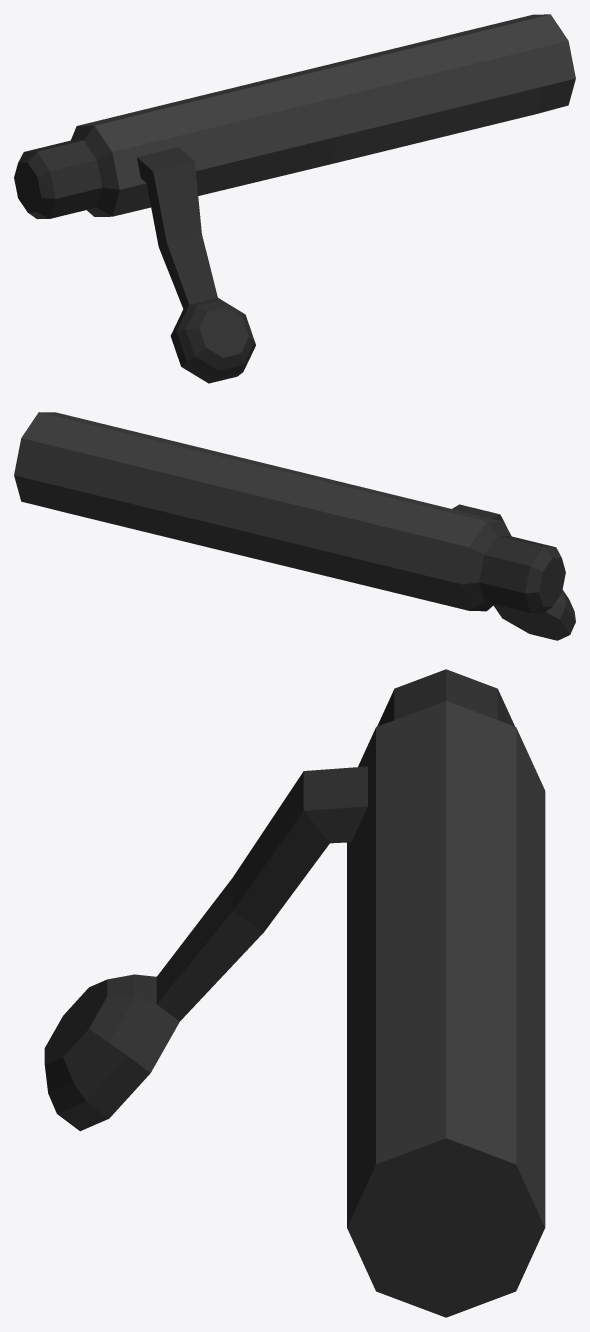
File: SniperRifle3_02_2.fbx
3 views of the same model, one above another, from view 1: azimuth 30°, elevation 25°; view 2: azimuth 150°, elevation 25°; view 3: azimuth 270°, elevation 25° (orthographic). The views are drawn at different scales.
Visible parts, largest first — view 1: SniperRifle3_02_2; view 2: SniperRifle3_02_2; view 3: SniperRifle3_02_2.
Boxes of the visible parts, x1,y1,x2,y2 form: SniperRifle3_02_2: (14,14,575,383); SniperRifle3_02_2: (14,412,575,640); SniperRifle3_02_2: (44,669,545,1317).
Bounding box in the file's own units: 0.1559 × 0.0555 × 0.0658.
